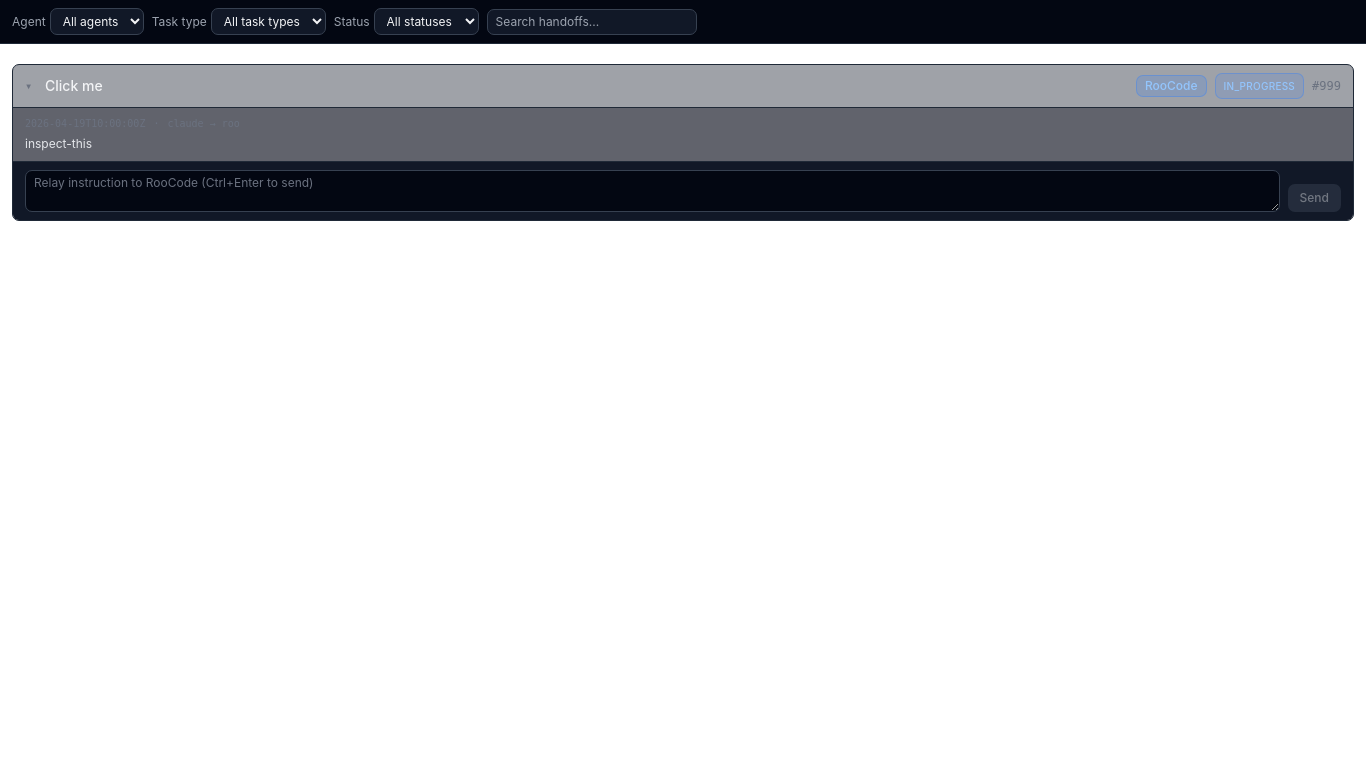
Issue #150 §D.3.b — Inspector panel › CodingTabContent shows the InspectorPanel with the clicked message payload
Click the button "2026-04-19T10:00:00Z · claude → roo inspect-this" at {"x": 85, "y": 124}, box [25, 118, 240, 151]
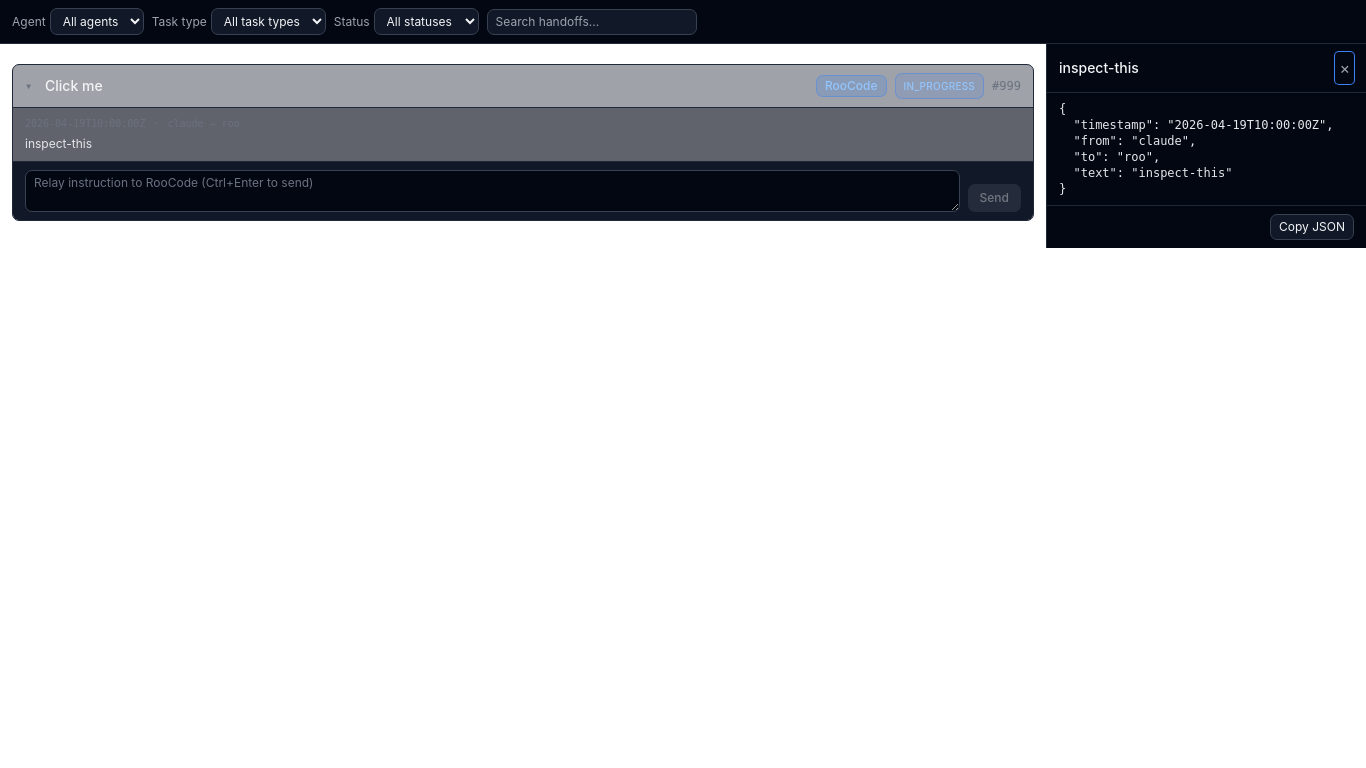
Check: the button named "close inspector" is shown, box [1335, 52, 1354, 84]
Check: the text with test id "inspector-payload" shows "\"text\": \"inspect-this\"", box [1059, 102, 1334, 196]
Check: the text with test id "inspector-payload" shows "\"from\": \"claude\"", box [1059, 102, 1334, 196]
